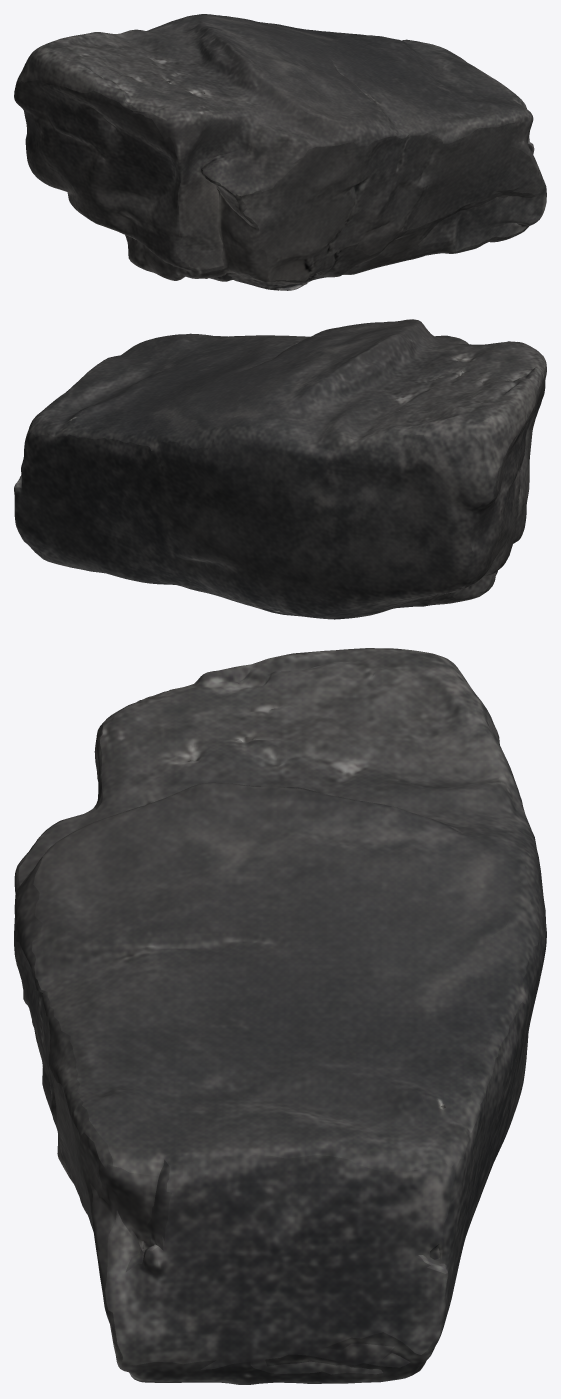
Rendered from tex_mesh.glb.
3 views of the same model, one above another, from view 1: azimuth 30°, elevation 25°; view 2: azimuth 150°, elevation 25°; view 3: azimuth 270°, elevation 25° (orthographic). The views are drawn at different scales.
Parts seen in each view (by area): view 1: world; view 2: world; view 3: world.
Boxes of the visible parts, bbox=[...] form: world: bbox=[14, 14, 546, 290]; world: bbox=[14, 319, 546, 619]; world: bbox=[14, 648, 546, 1384].
Bounding box in the file's own units: 3.5 × 1.75 × 2.12.
Materials: 1 (1 with a texture image).
